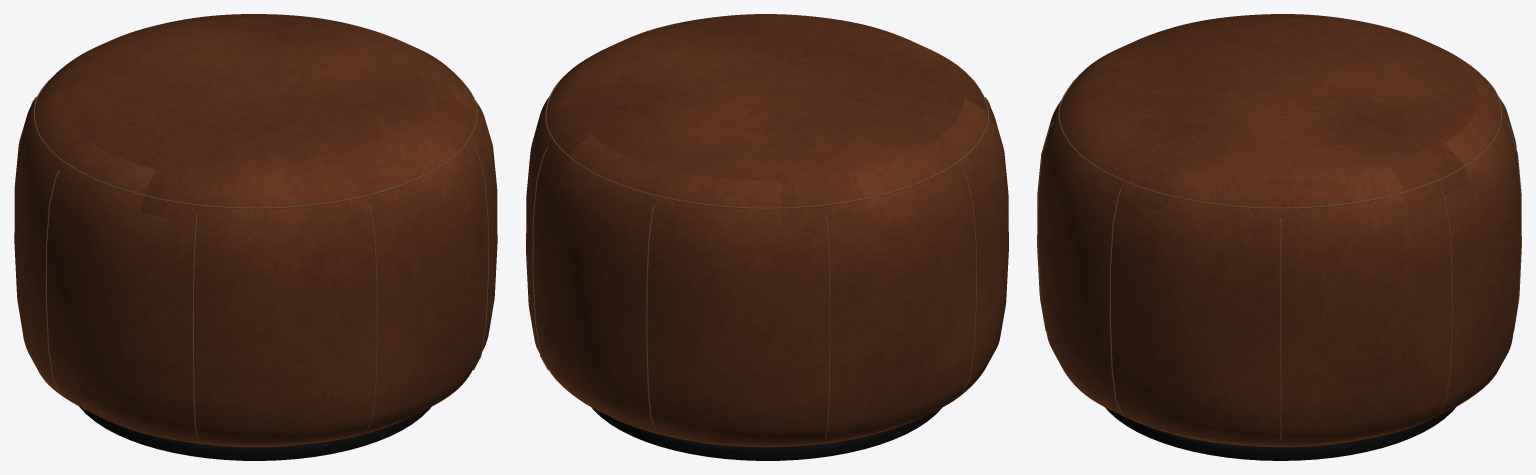
Rendered from industrial_pufe.glb.
3 views of the same model, side by side, from view 1: azimuth 30°, elevation 25°; view 2: azimuth 150°, elevation 25°; view 3: azimuth 270°, elevation 25° (orthographic).
Parts seen in each view (by area): view 1: pufe; view 2: pufe; view 3: pufe.
Boxes of the visible parts, x1=… form: pufe: x1=14, y1=14, x2=497, y2=460; pufe: x1=526, y1=14, x2=1008, y2=460; pufe: x1=1037, y1=14, x2=1521, y2=460.
Bounding box in the file's own units: 0.5621 × 0.389 × 0.5621.
3 materials, 2 textured.
